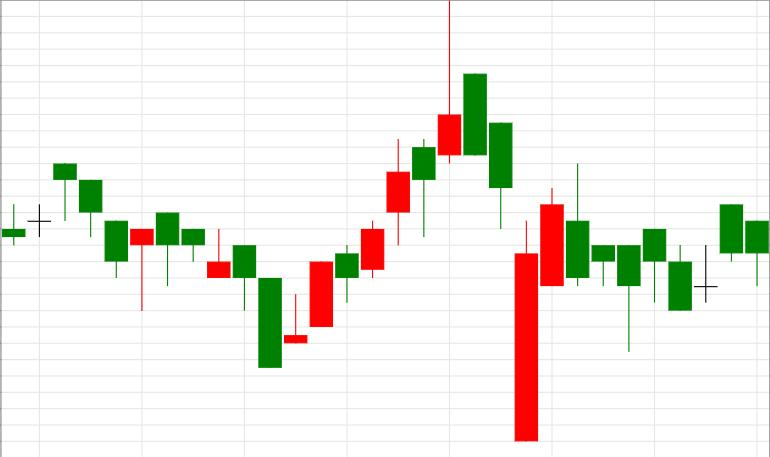shooting_star_fall: (284, 1, 461, 343)
